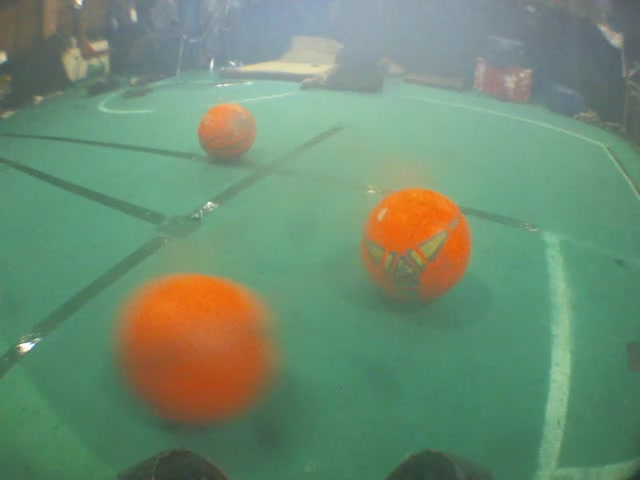ball: (103, 258, 289, 433), (356, 184, 482, 313), (191, 97, 264, 167)
